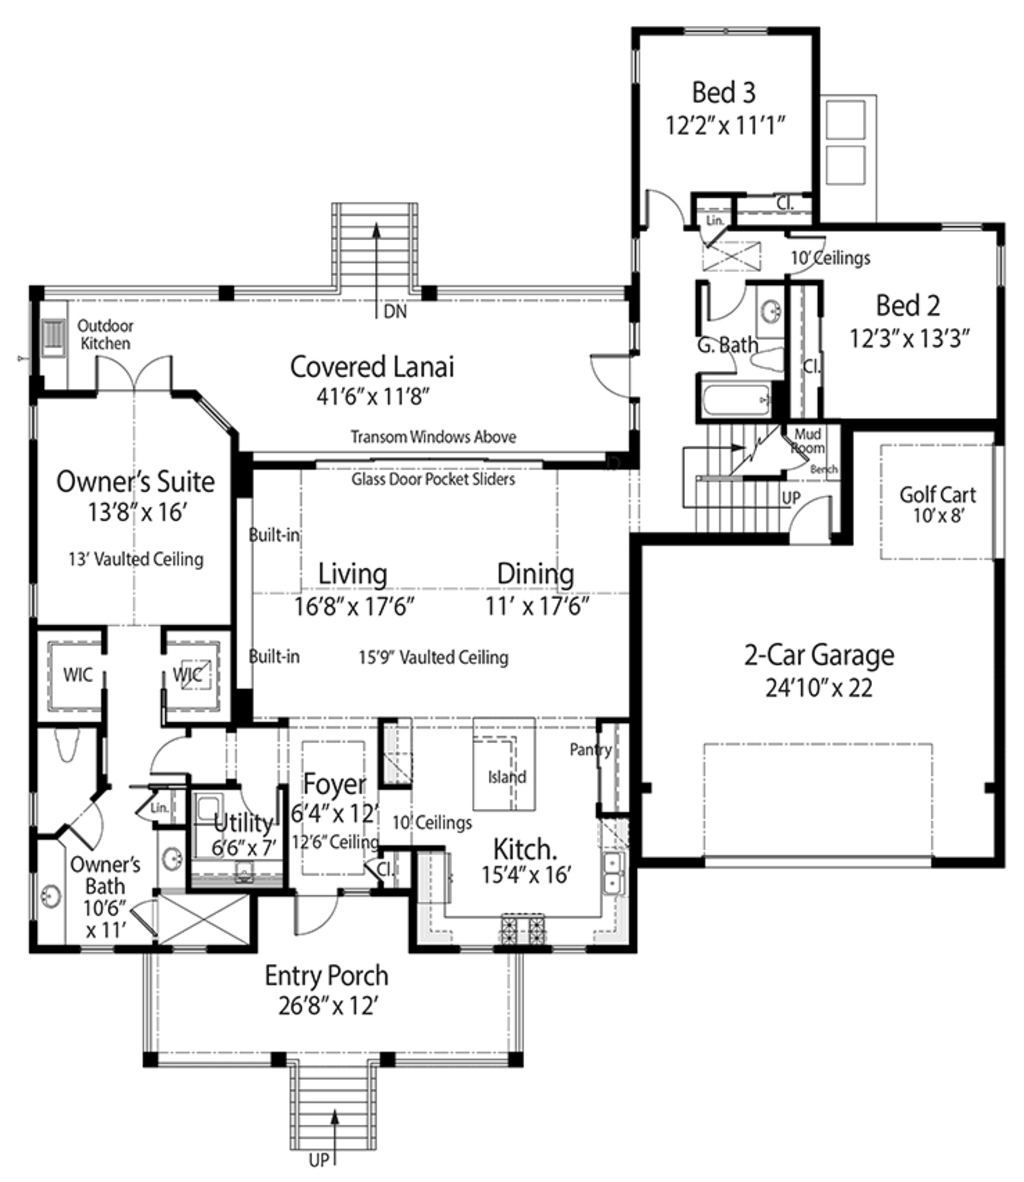door: (91, 353, 173, 401), (586, 348, 639, 409), (636, 184, 689, 234), (144, 732, 191, 779), (700, 274, 744, 324), (295, 889, 340, 936), (71, 802, 104, 854), (128, 894, 160, 934)
large_sink: (44, 726, 93, 764), (745, 343, 791, 376)
small_sink: (754, 282, 786, 342), (153, 826, 186, 882), (39, 863, 64, 919)
stairs: (679, 424, 794, 551), (279, 1051, 385, 1167), (330, 203, 423, 317)
tub: (703, 378, 773, 426)
twin_sink: (600, 851, 629, 896)
windows: (679, 23, 773, 41), (933, 216, 983, 232), (26, 576, 41, 617)
